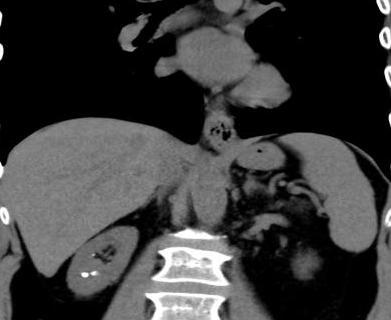Tas_Var: (79, 271, 89, 279), (90, 270, 99, 277), (91, 253, 96, 257), (106, 262, 111, 265)
